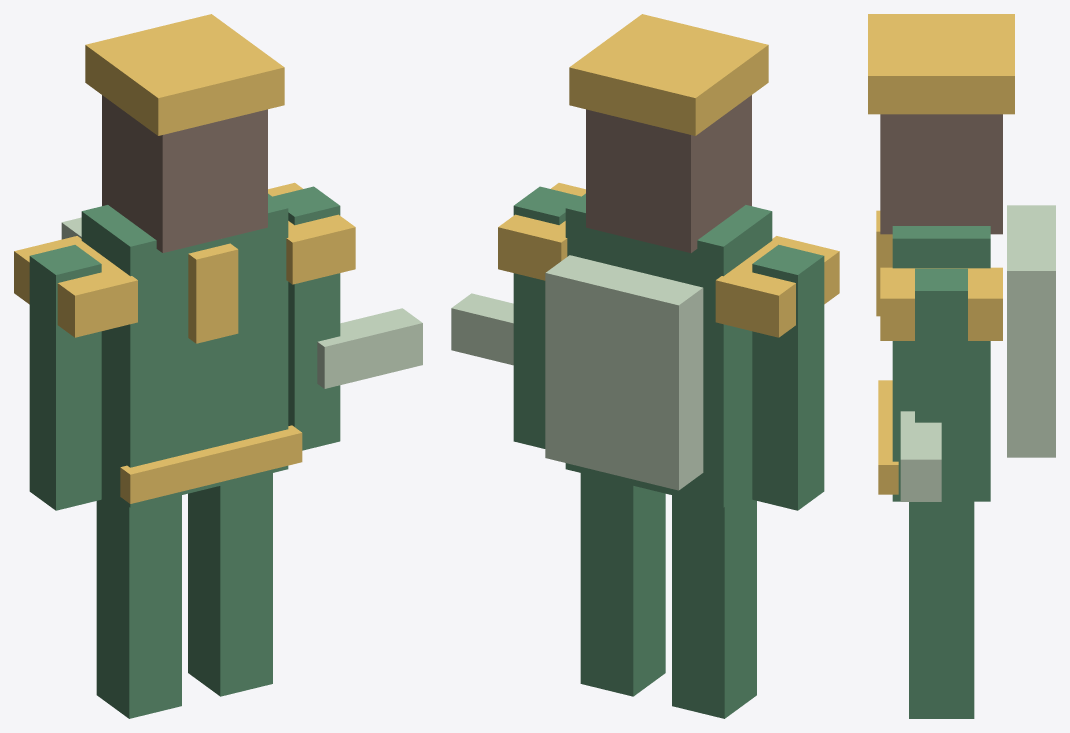
The model's file is 07_edda_ashvein_runner_at_ancient.glb.
The picture shows the model from 3 angles, left to right: view 1: azimuth 30°, elevation 25°; view 2: azimuth 150°, elevation 25°; view 3: azimuth 270°, elevation 25°; orthographic projection.
Parts seen in each view (by area): view 1: Edda Ashvein, Runner at Ancient; view 2: Edda Ashvein, Runner at Ancient; view 3: Edda Ashvein, Runner at Ancient.
Boxes of the visible parts, <box> form: Edda Ashvein, Runner at Ancient: <box>14,14,422,718</box>; Edda Ashvein, Runner at Ancient: <box>451,14,839,718</box>; Edda Ashvein, Runner at Ancient: <box>868,14,1055,718</box>.
Bounding box in the file's own units: 0.9963 × 1.68 × 0.4471.
